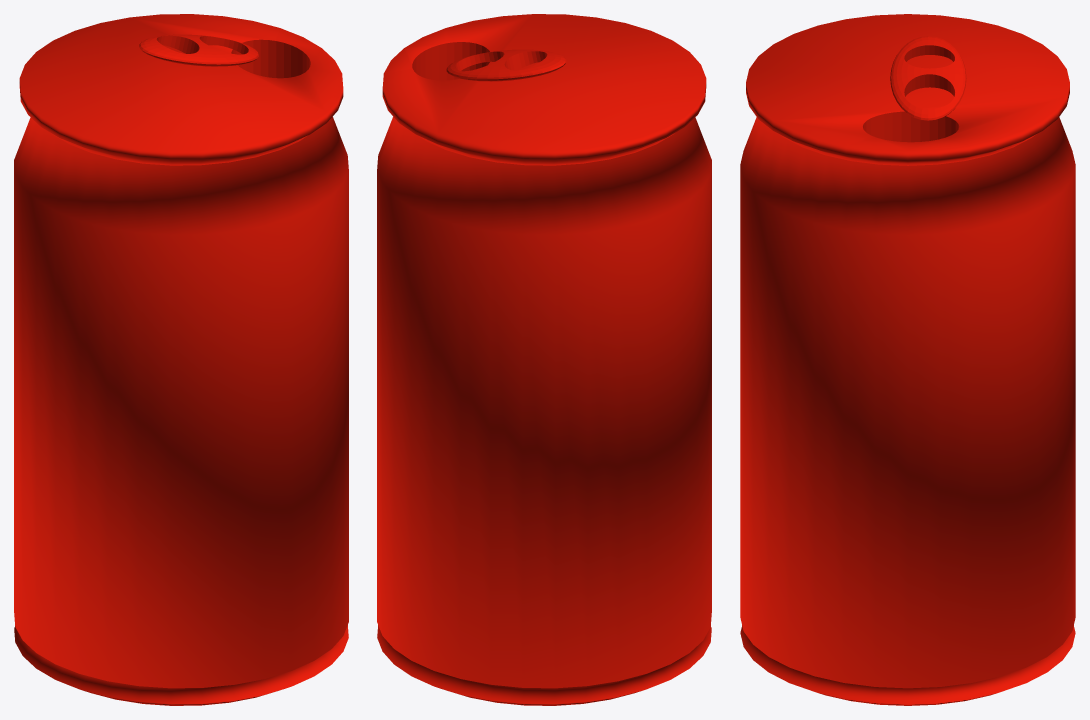
The model's file is Lata.fbx.
The picture shows the model from 3 angles, left to right: view 1: azimuth 30°, elevation 25°; view 2: azimuth 150°, elevation 25°; view 3: azimuth 270°, elevation 25°; orthographic projection.
Visible parts, largest first — view 1: Sphere.001; view 2: Sphere.001; view 3: Sphere.001.
Part boxes in pixels (<box>): Sphere.001: <box>14,14,348,705</box>; Sphere.001: <box>377,14,711,705</box>; Sphere.001: <box>740,14,1075,705</box>.
Bounding box in the file's own units: 200 × 391 × 200.
